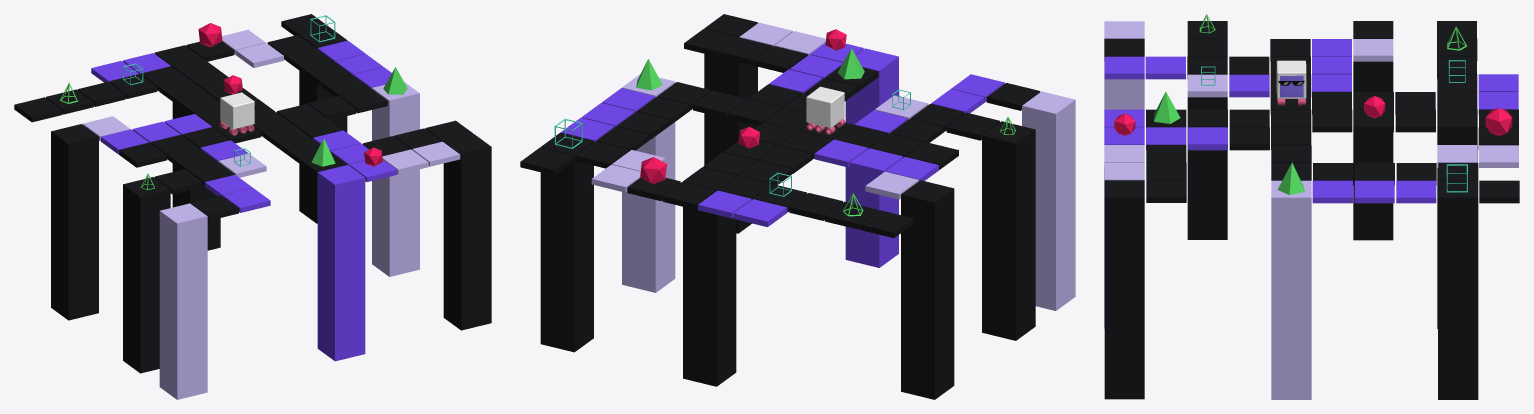
The model's file is trinity-scene.glb.
3 renders of one model, left to right at view 1: azimuth 30°, elevation 25°; view 2: azimuth 150°, elevation 25°; view 3: azimuth 270°, elevation 25°, orthographic. The views are drawn at different scales.
Parts seen in each view (by area): view 1: Cube.010, Cube.060, Cube.066, Cube.004, Cube.062, Cube.027, Cube.031, Cube.016, Object_7, Cube.044, Cube.065, Cube.040 (+52 smaller); view 2: Cube.062, Cube.066, Cube.031, Cube.016, Cube.060, Cube.027, Cube.010, Cube.004, Object_7, Cube.071, Cube.033, Cube.044 (+55 smaller); view 3: Cube.004, Cube.031, Cube.027, Cube.062, Cube.066, Cube.060, Cube.016, Cube.033, Cube.057, Cube.041, Cube.015, Cube.017 (+58 smaller).
Boxes of the visible parts, left/top/right/bottom form: Cube.010: left=317, top=165, right=365, bottom=361; Cube.060: left=159, top=203, right=207, bottom=399; Cube.066: left=51, top=124, right=98, bottom=320; Cube.004: left=443, top=134, right=491, bottom=330; Cube.062: left=123, top=177, right=170, bottom=373; Cube.027: left=372, top=82, right=419, bottom=276; Cube.031: left=299, top=27, right=347, bottom=223; Cube.016: left=172, top=58, right=220, bottom=250; Object_7: left=220, top=92, right=254, bottom=129; Cube.044: left=14, top=97, right=62, bottom=122; Cube.065: left=119, top=142, right=166, bottom=167; Cube.040: left=236, top=43, right=283, bottom=67; Cube.062: left=982, top=121, right=1035, bottom=340; Cube.066: left=901, top=180, right=954, bottom=399; Cube.031: left=540, top=132, right=593, bottom=352; Cube.016: left=683, top=167, right=736, bottom=386; Cube.060: left=1022, top=91, right=1075, bottom=310; Cube.027: left=622, top=74, right=675, bottom=292; Cube.010: left=845, top=48, right=898, bottom=267; Cube.004: left=704, top=14, right=757, bottom=233; Object_7: left=806, top=86, right=844, bottom=127; Cube.071: left=733, top=199, right=787, bottom=227; Cube.033: left=520, top=147, right=573, bottom=175; Cube.044: left=860, top=210, right=913, bottom=237; Cube.004: left=1104, top=180, right=1144, bottom=399; Cube.031: left=1438, top=180, right=1478, bottom=399; Cube.027: left=1271, top=180, right=1311, bottom=399; Cube.062: left=1187, top=21, right=1227, bottom=239; Cube.066: left=1353, top=21, right=1393, bottom=240; Cube.060: left=1104, top=21, right=1144, bottom=109; Cube.016: left=1437, top=109, right=1477, bottom=328; Cube.033: left=1479, top=180, right=1519, bottom=203; Cube.057: left=1229, top=74, right=1269, bottom=97; Cube.041: left=1229, top=127, right=1269, bottom=150; Cube.015: left=1312, top=109, right=1352, bottom=132; Cube.017: left=1395, top=109, right=1435, bottom=132.
Size of the model in its own units: 19.29 by 12.03 by 19.15.
10 materials, 1 textured.
